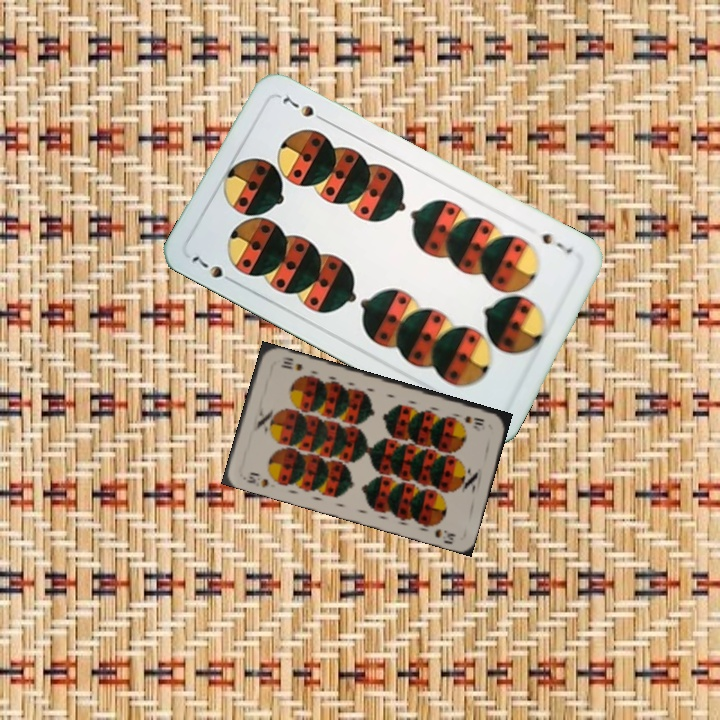S10: (243, 468, 271, 490), (459, 412, 487, 428)
S7: (187, 252, 239, 287), (535, 228, 576, 256)
